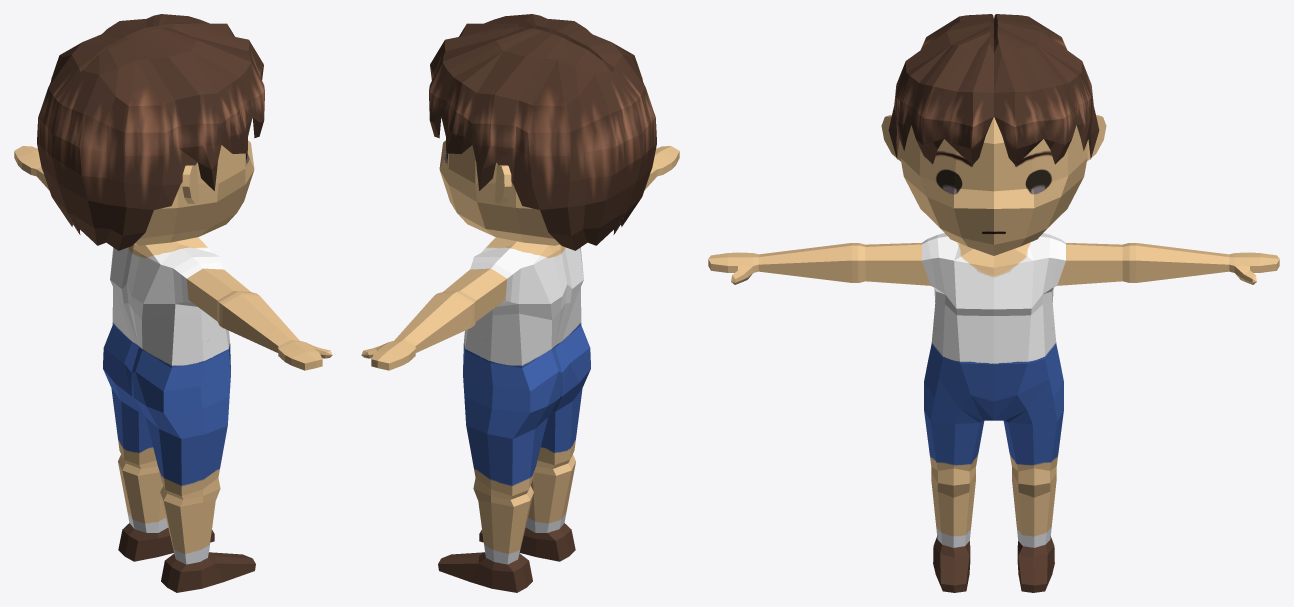
Rendered from lowpoly_chara01.fbx.
3 renders of one model, left to right at view 1: azimuth 30°, elevation 25°; view 2: azimuth 150°, elevation 25°; view 3: azimuth 270°, elevation 25°, orthographic. The views are drawn at different scales.
Visible parts, largest first — view 1: boy01; view 2: boy01; view 3: boy01.
Part boxes in pixels (x1=…): boy01: x1=14, y1=14, x2=332, y2=592; boy01: x1=361, y1=14, x2=679, y2=592; boy01: x1=708, y1=14, x2=1279, y2=592.
Bounding box in the file's own units: 109 × 281 × 276.
1 material, 1 textured.
